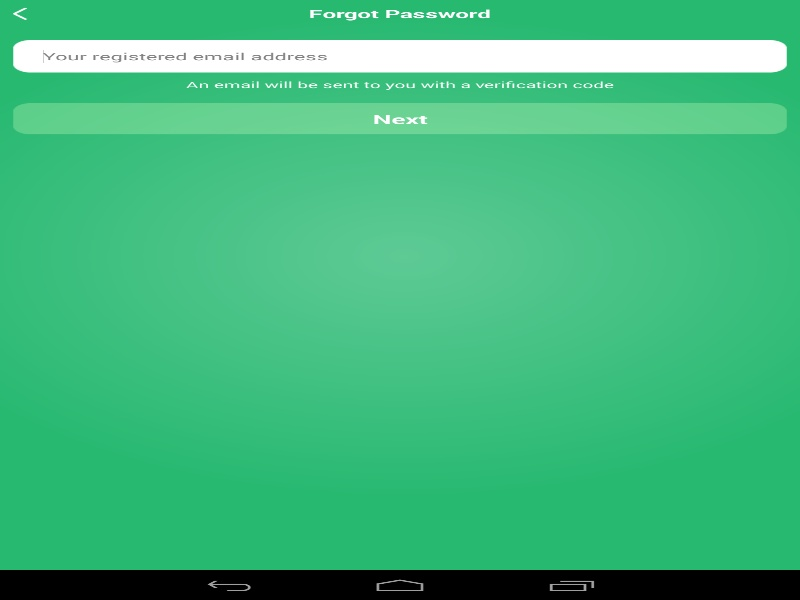Button: (13, 103, 786, 134), (13, 7, 26, 20)
Input: (42, 49, 770, 63)
